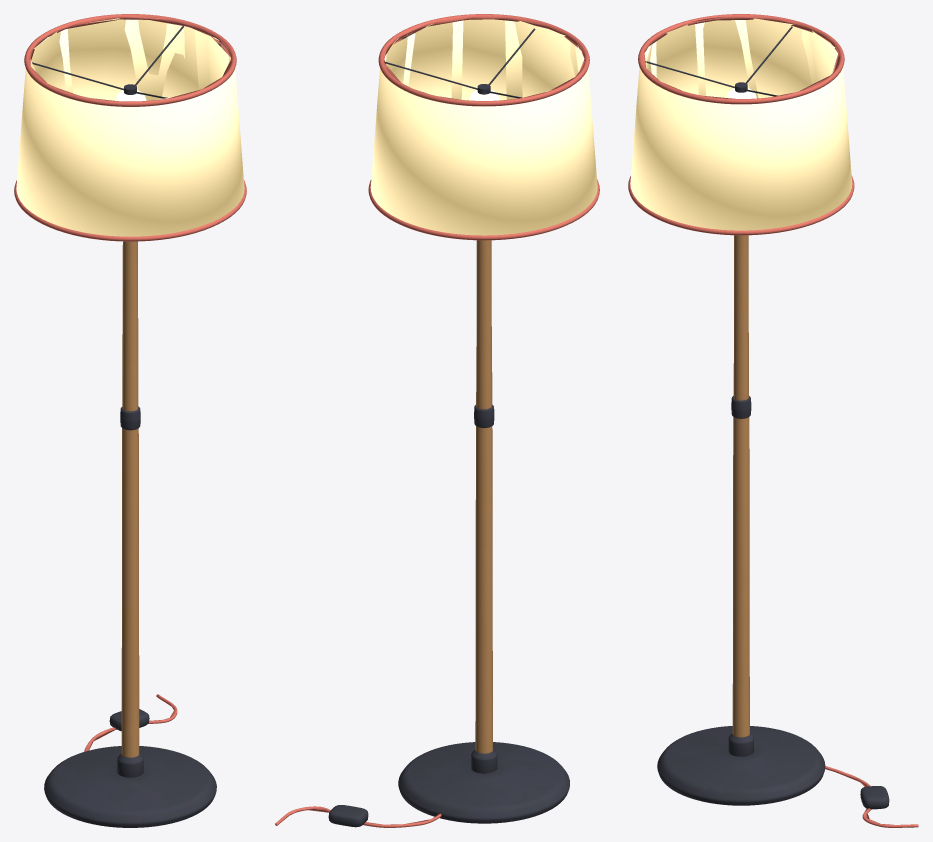
File: g3d_floor_lamp.glb
3 views of the same model, side by side, from view 1: azimuth 30°, elevation 25°; view 2: azimuth 150°, elevation 25°; view 3: azimuth 270°, elevation 25° (orthographic). The views are drawn at different scales.
Visible parts, largest first — view 1: floor-lamp_shade_glow, floor-lamp_body, floor-lamp_shade_glow_lo, floor-lamp_body_lo; view 2: floor-lamp_shade_glow, floor-lamp_body, floor-lamp_shade_glow_lo, floor-lamp_body_lo; view 3: floor-lamp_shade_glow, floor-lamp_body, floor-lamp_shade_glow_lo, floor-lamp_body_lo.
Part boxes in pixels (left/top/right/bottom): floor-lamp_shade_glow: left=16, top=19, right=244, bottom=236; floor-lamp_body: left=14, top=14, right=246, bottom=827; floor-lamp_shade_glow_lo: left=30, top=18, right=229, bottom=216; floor-lamp_body_lo: left=29, top=16, right=244, bottom=759; floor-lamp_shade_glow: left=370, top=20, right=597, bottom=235; floor-lamp_body: left=275, top=14, right=599, bottom=827; floor-lamp_shade_glow_lo: left=386, top=19, right=584, bottom=100; floor-lamp_body_lo: left=283, top=16, right=584, bottom=824; floor-lamp_shade_glow: left=630, top=20, right=852, bottom=230; floor-lamp_body: left=628, top=14, right=918, bottom=827; floor-lamp_shade_glow_lo: left=645, top=18, right=837, bottom=98; floor-lamp_body_lo: left=643, top=16, right=915, bottom=827.
Size of the model in its own units: 0.5066 by 1.61 by 0.5918.
Materials: 3 (1 with a texture image).
